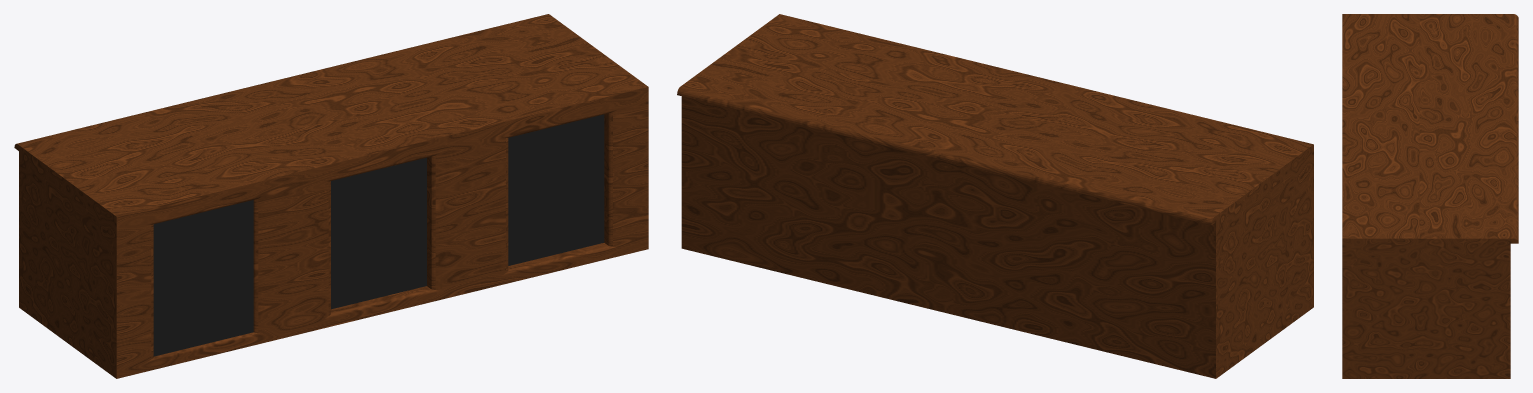
Rendered from back-bar.glb.
3 views of the same model, side by side, from view 1: azimuth 30°, elevation 25°; view 2: azimuth 150°, elevation 25°; view 3: azimuth 270°, elevation 25° (orthographic). The views are drawn at different scales.
Parts seen in each view (by area): view 1: Cube_wood_material.001_0; view 2: Cube_wood_material.001_0; view 3: Cube_wood_material.001_0.
Boxes of the visible parts, x1=… form: Cube_wood_material.001_0: x1=14, y1=14, x2=648, y2=378; Cube_wood_material.001_0: x1=677, y1=14, x2=1313, y2=378; Cube_wood_material.001_0: x1=1342, y1=14, x2=1518, y2=378.
Size of the model in its own units: 14.41 by 4.2 by 4.79.
2 materials, 1 textured.
